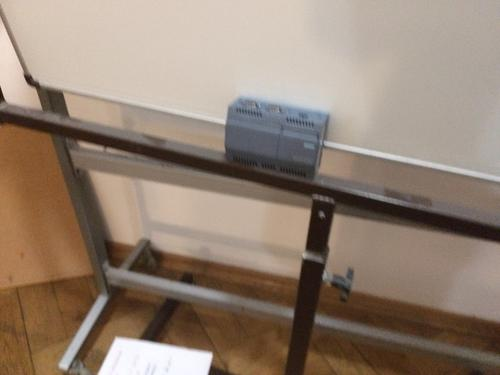iot2000: (224, 96, 329, 180)
